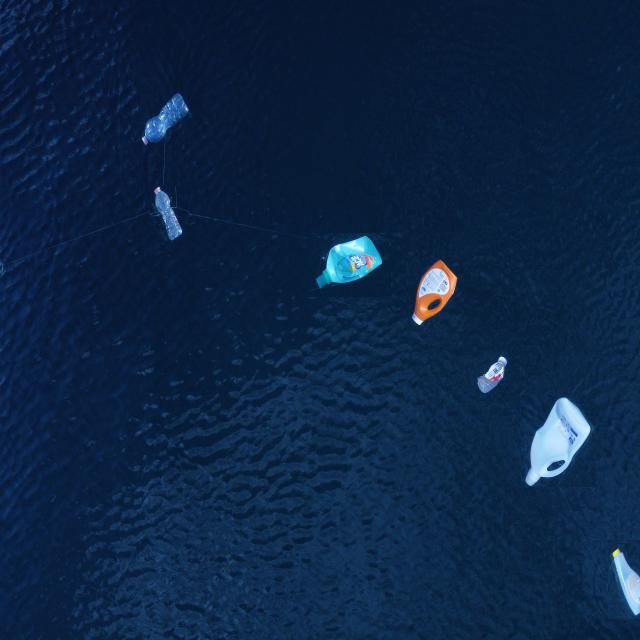bottles: (521, 395, 596, 487), (309, 232, 391, 296), (406, 258, 464, 331), (135, 86, 196, 152), (608, 540, 640, 619), (150, 186, 189, 241), (474, 350, 509, 401)
